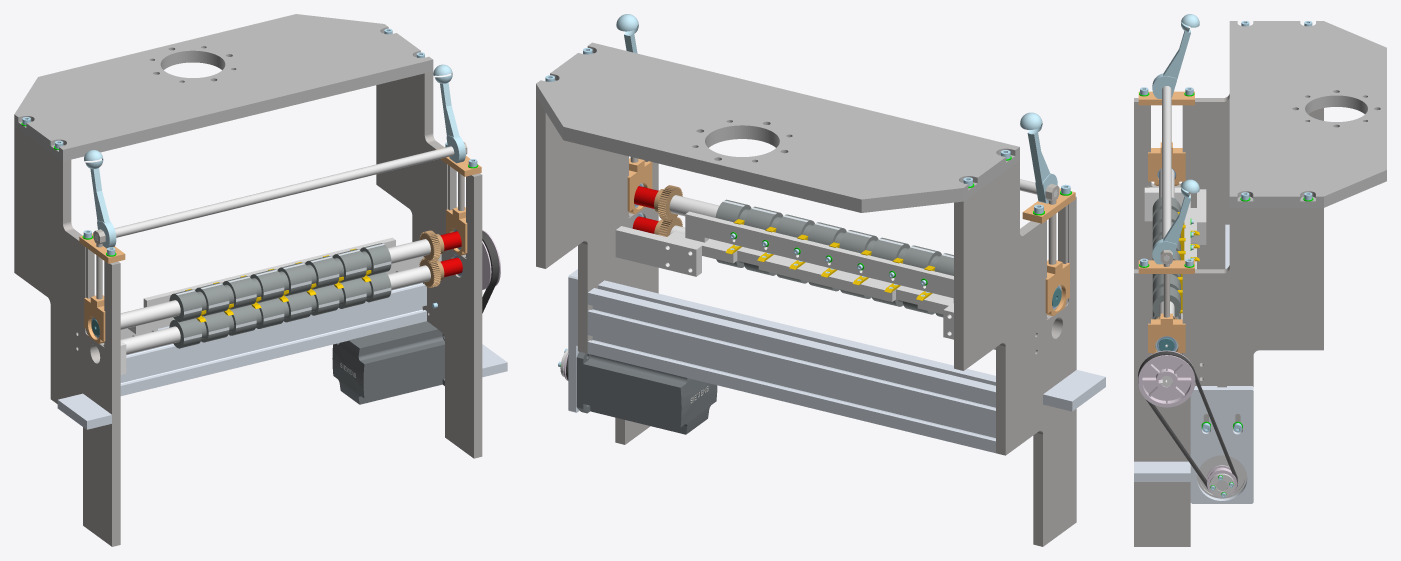
File: bloc_avance_1.glb
3 renders of one model, left to right at view 1: azimuth 30°, elevation 25°; view 2: azimuth 150°, elevation 25°; view 3: azimuth 270°, elevation 25°, orthographic. The views are drawn at different scales.
Parts seen in each view (by area): view 1: Node2, Node3, Node4, Node17, Node12, Node14, Node16, Node15, Node22, Node23, Node18, Node1 (+3 smaller); view 2: Node2, Node3, Node4, Node23, Node12, Node17, Node22, Node15, Node19, Node1, Node20, Node16 (+2 smaller); view 3: Node2, Node3, Node4, Node22, Node25, Node15, Node17, Node14, Node23, Node26, Node11, Node20 (+4 smaller).
Boxes of the visible parts, left/top/right/bottom form: Node2: left=14, top=71, right=482, bottom=546; Node3: left=14, top=14, right=433, bottom=161; Node4: left=57, top=282, right=507, bottom=429; Node17: left=169, top=243, right=391, bottom=348; Node12: left=332, top=321, right=444, bottom=404; Node14: left=95, top=146, right=454, bottom=240; Node16: left=120, top=239, right=430, bottom=354; Node15: left=84, top=64, right=465, bottom=248; Node22: left=79, top=147, right=481, bottom=343; Node23: left=120, top=237, right=441, bottom=339; Node18: left=176, top=243, right=391, bottom=340; Node1: left=419, top=230, right=444, bottom=287; Node2: left=536, top=97, right=1076, bottom=546; Node3: left=536, top=42, right=1019, bottom=212; Node4: left=568, top=269, right=1105, bottom=453; Node23: left=560, top=211, right=995, bottom=377; Node12: left=576, top=351, right=717, bottom=434; Node17: left=715, top=199, right=953, bottom=317; Node22: left=627, top=158, right=1075, bottom=316; Node15: left=616, top=14, right=1057, bottom=203; Node19: left=725, top=219, right=935, bottom=300; Node1: left=654, top=185, right=682, bottom=236; Node20: left=545, top=48, right=1070, bottom=367; Node16: left=669, top=195, right=719, bottom=234; Node2: left=1134, top=94, right=1323, bottom=546; Node3: left=1229, top=21, right=1386, bottom=207; Node4: left=1134, top=224, right=1253, bottom=503; Node22: left=1138, top=91, right=1194, bottom=352; Node25: left=1138, top=350, right=1237, bottom=497; Node15: left=1152, top=14, right=1199, bottom=264; Node17: left=1152, top=197, right=1180, bottom=319; Node14: left=1162, top=86, right=1171, bottom=261; Node23: left=1181, top=189, right=1234, bottom=497; Node26: left=1138, top=351, right=1237, bottom=488; Node11: left=1197, top=455, right=1247, bottom=498; Node20: left=1140, top=21, right=1312, bottom=497.
Size of the model in its own units: 754 by 635 by 402.
